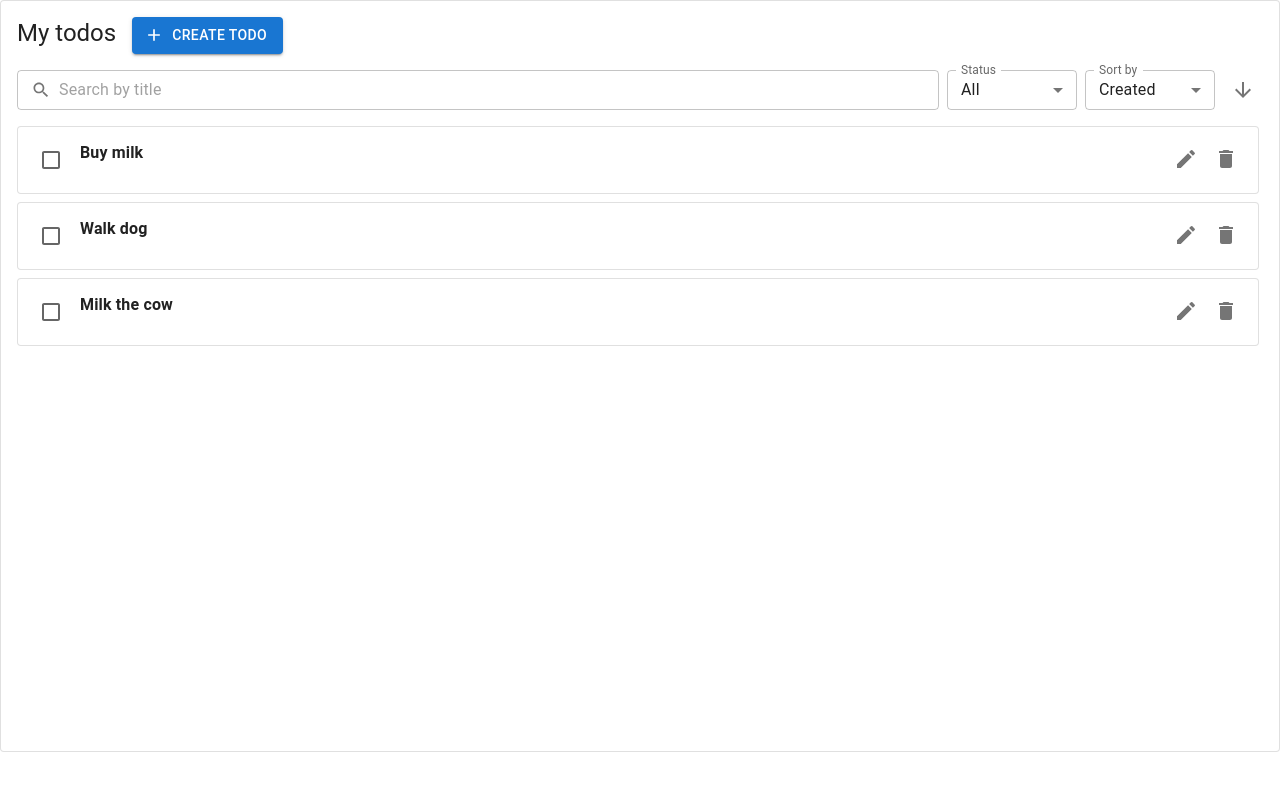
Test: TodoComponent › search › filters todos by title, case-insensitively
The image size is (1280, 800).
Type "MILK" into the field with placeholder "Search by title". click: (499, 90)
box: [59,70,939,110]
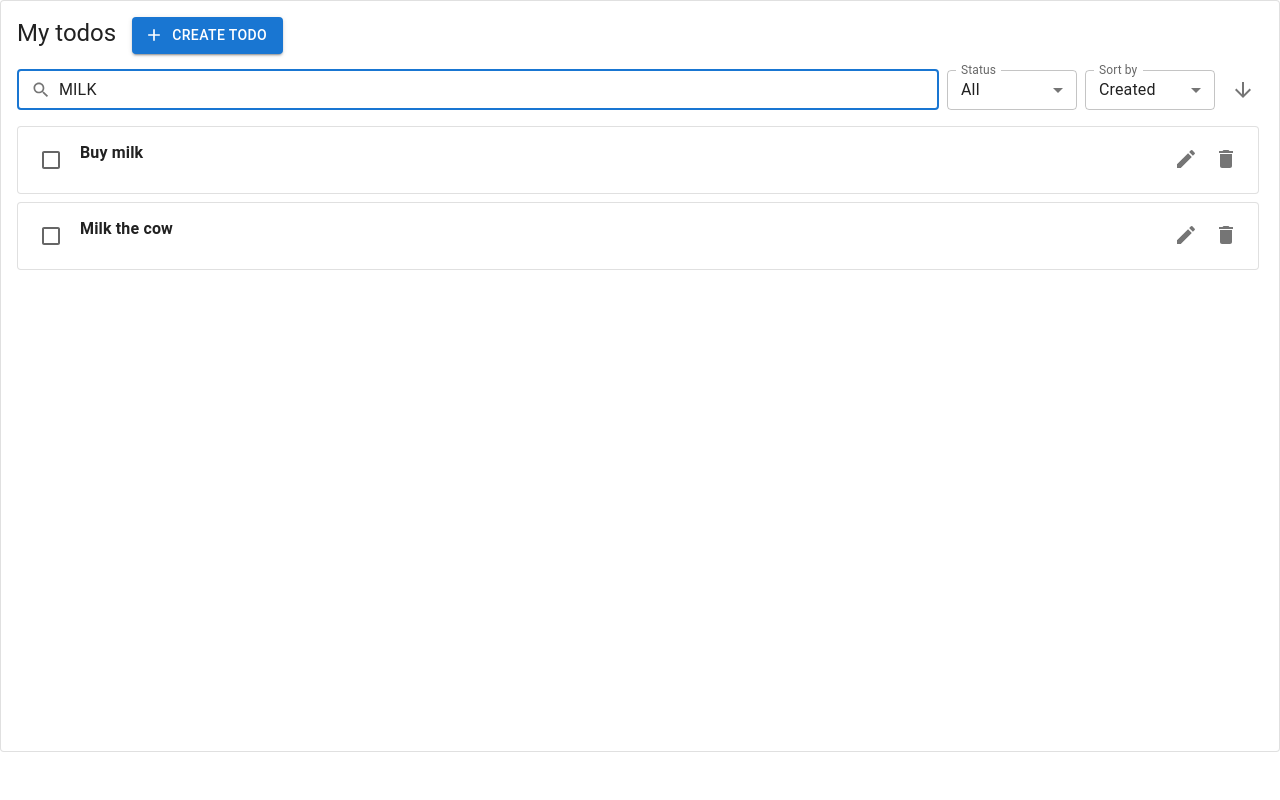
Check: the heading "Buy milk" is shown, box [80,142,143,162]
Check: the heading "Walk dog" is gone
